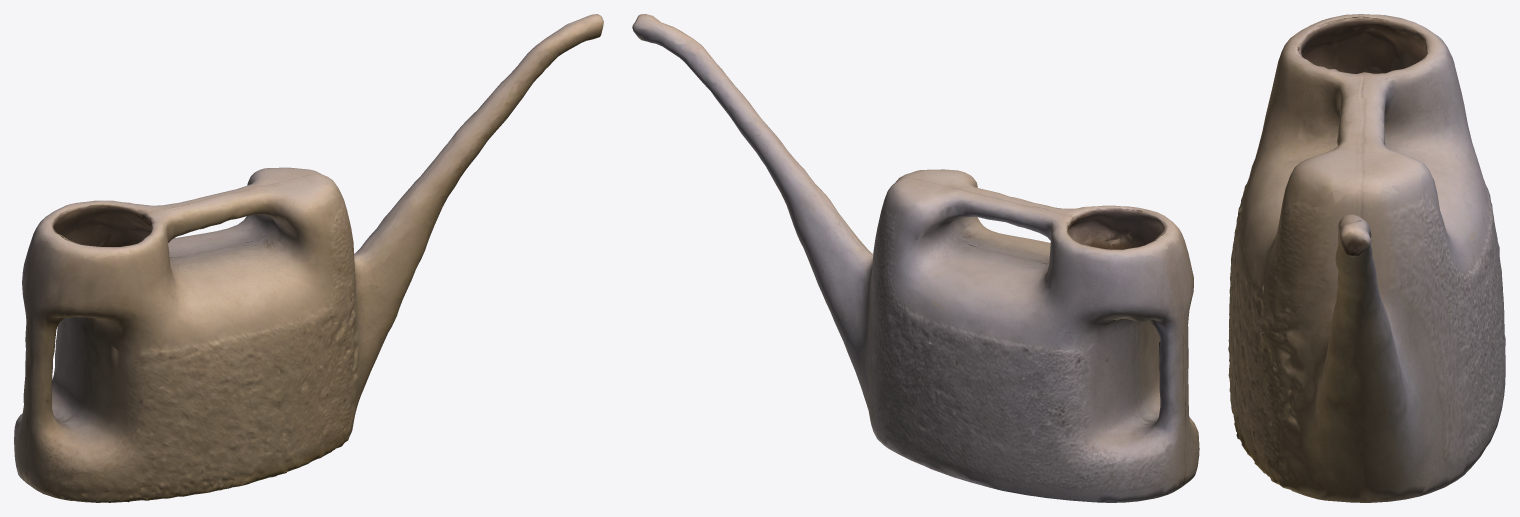
The model's file is watering-can.glb.
3 views of the same model, side by side, from view 1: azimuth 30°, elevation 25°; view 2: azimuth 150°, elevation 25°; view 3: azimuth 270°, elevation 25° (orthographic). The views are drawn at different scales.
Visible parts, largest first — view 1: Mesh_0_Part_0; view 2: Mesh_0_Part_0; view 3: Mesh_0_Part_0.
Part boxes in pixels (bbox=[...]): Mesh_0_Part_0: bbox=[14, 14, 603, 502]; Mesh_0_Part_0: bbox=[632, 14, 1199, 502]; Mesh_0_Part_0: bbox=[1228, 14, 1505, 502].
Size of the model in its own units: 0.2474 by 0.1413 by 0.0824.
Materials: 1 (1 with a texture image).
